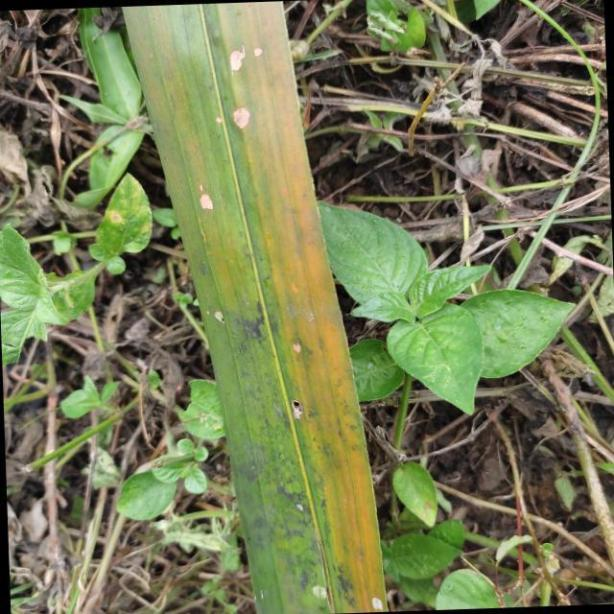Megnesium: (123, 0, 390, 614)
